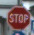stopsign: (7, 6, 32, 30)
